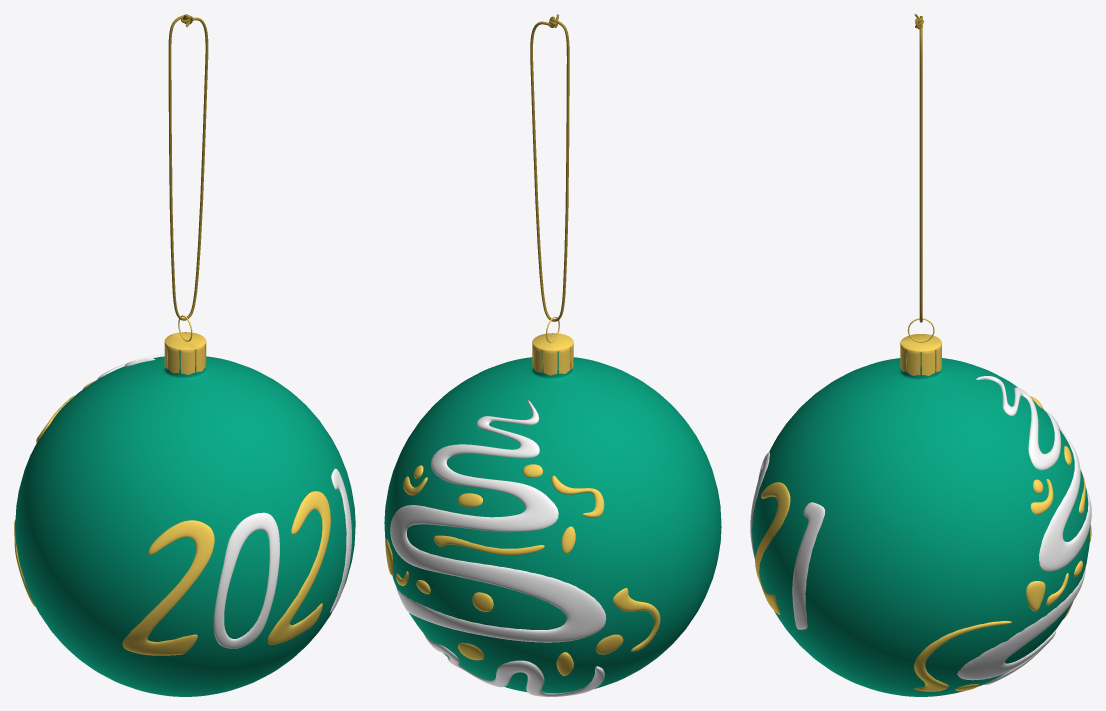
Rendered from Christmas_green_ball.glb.
The picture shows the model from 3 angles, left to right: view 1: azimuth 30°, elevation 25°; view 2: azimuth 150°, elevation 25°; view 3: azimuth 270°, elevation 25°; orthographic projection.
Visible parts, largest first — view 1: Christmas green ball_low; view 2: Christmas green ball_low; view 3: Christmas green ball_low.
Part boxes in pixels (left/top/right/bottom): Christmas green ball_low: left=14, top=14, right=355, bottom=696; Christmas green ball_low: left=384, top=14, right=721, bottom=696; Christmas green ball_low: left=750, top=14, right=1091, bottom=696.
Size of the model in its own units: 1.53 by 3.33 by 1.54.
1 material, 1 textured.
